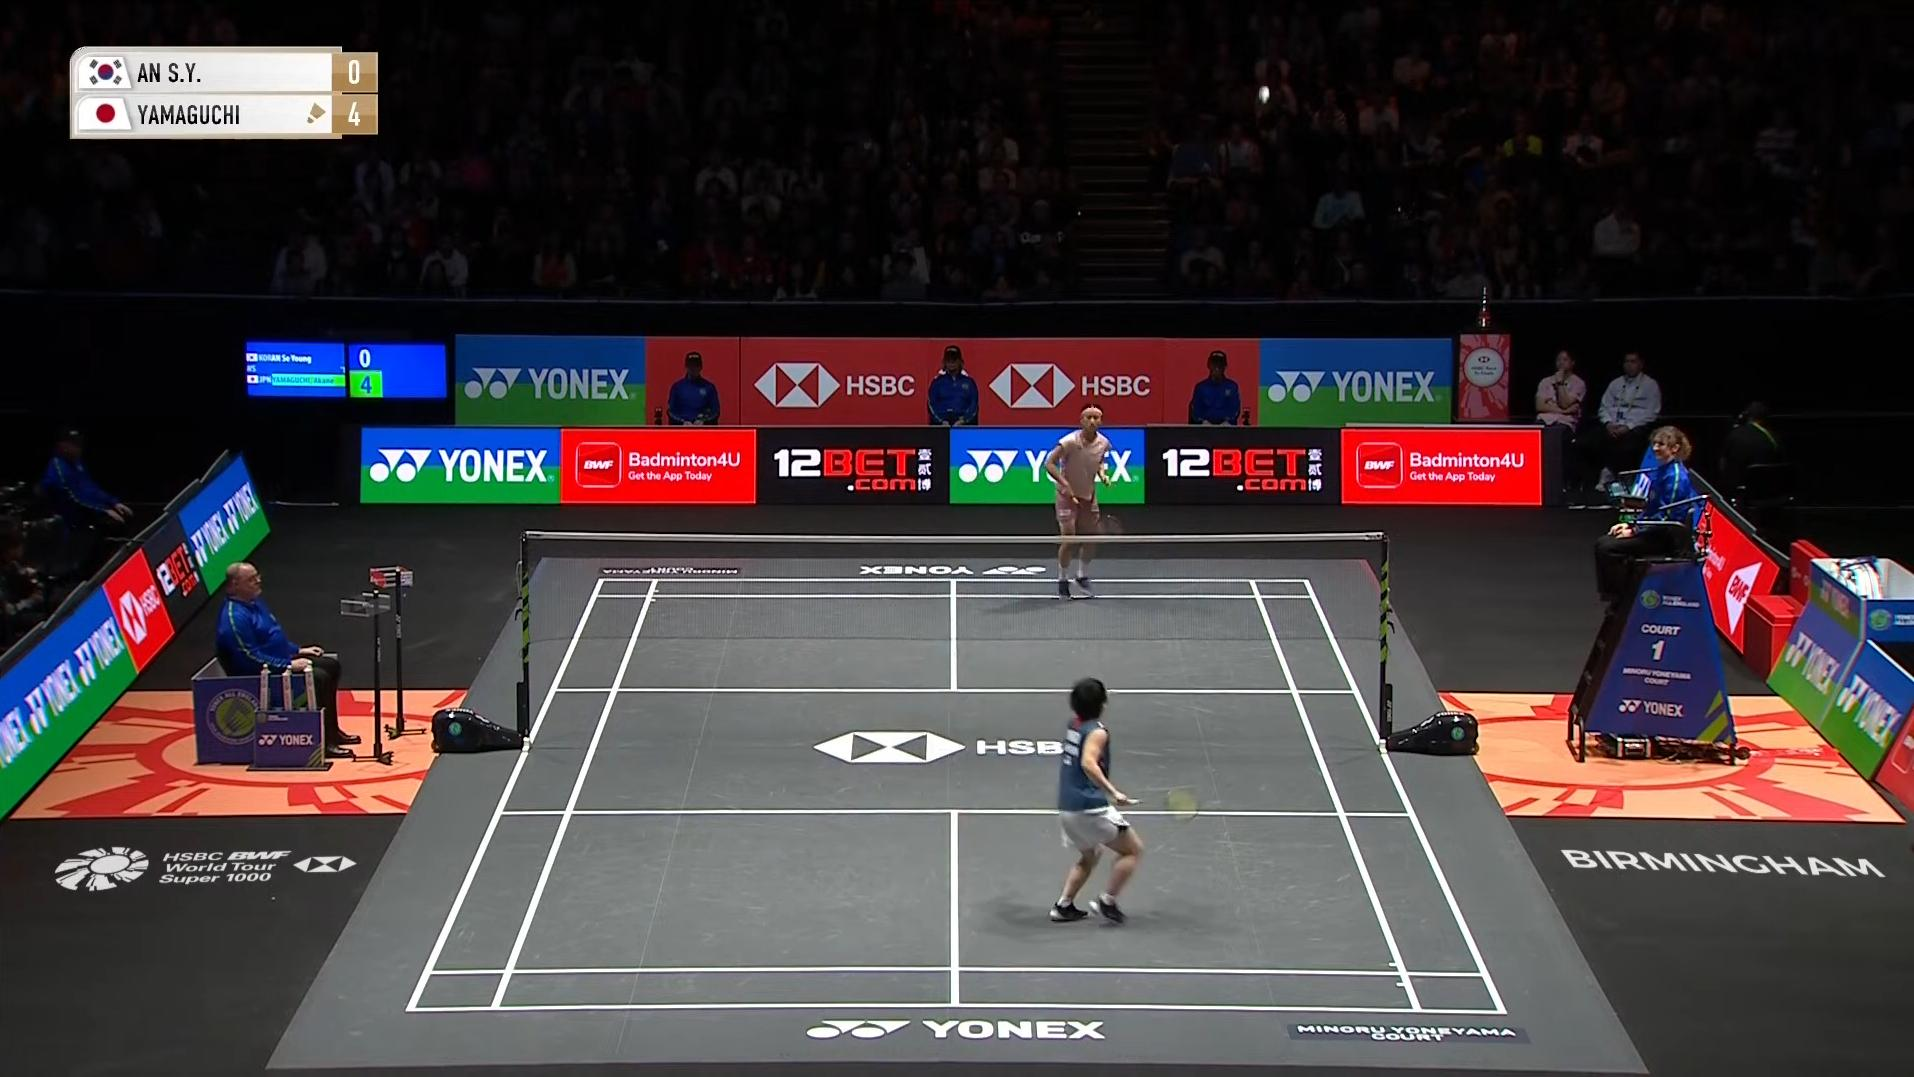shuttle: (1251, 80, 1279, 114)
